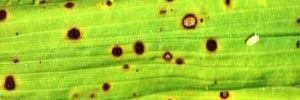RiceBrownSpot: (174, 11, 225, 55), (107, 38, 149, 73), (1, 54, 27, 95), (60, 24, 90, 44), (213, 85, 238, 100)
